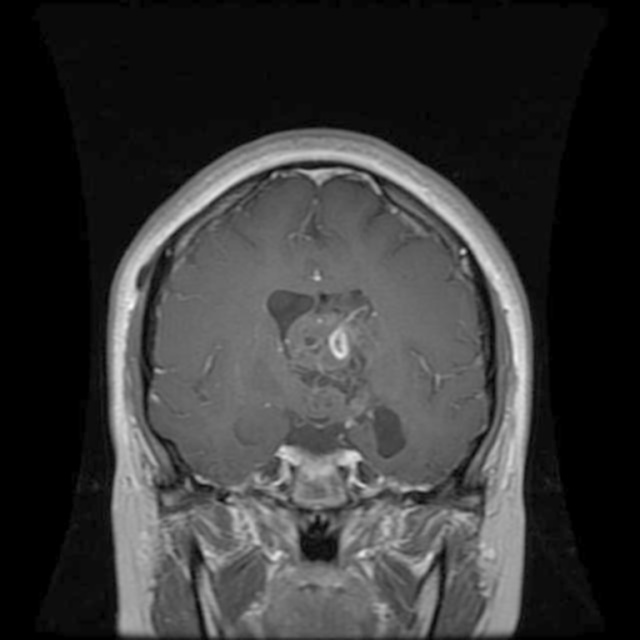pituitary tumor: (325, 324, 359, 364)
